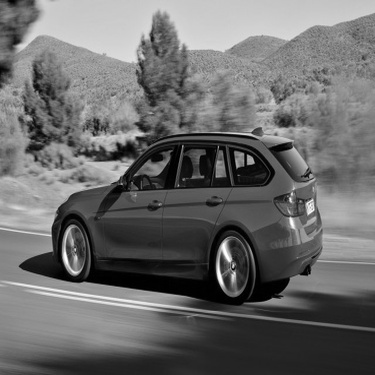car: (46, 120, 328, 307)
